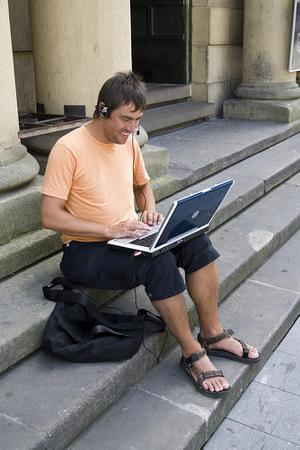person: (41, 75, 260, 399)
